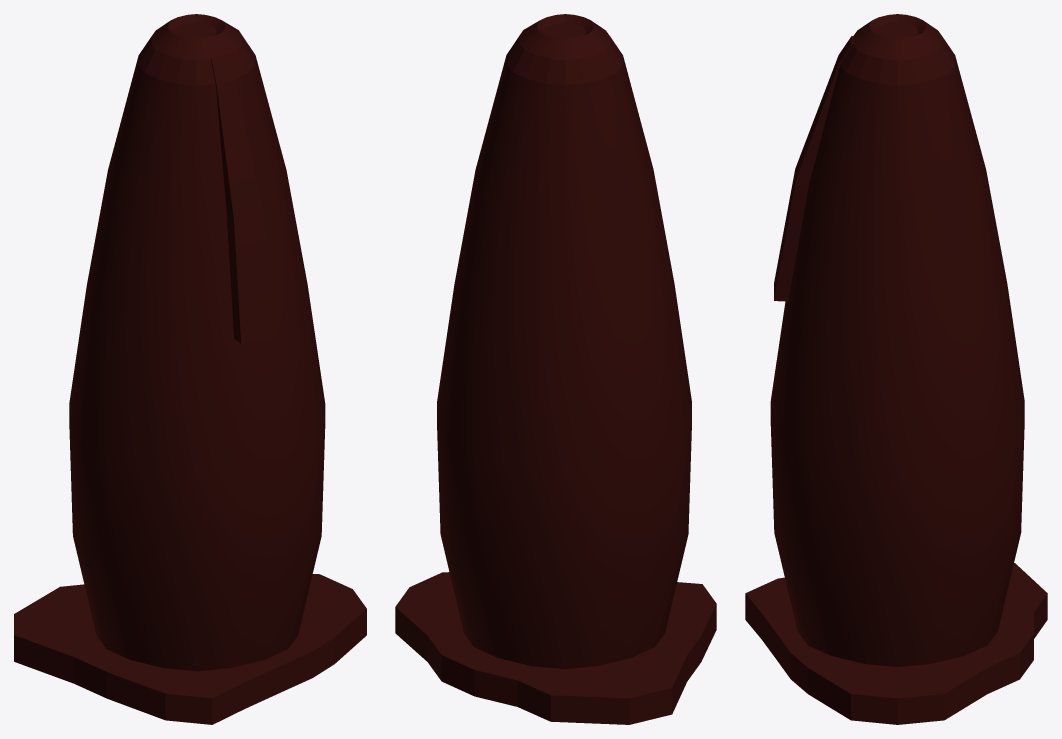
The model's file is candle 2 colored.fbx.
The picture shows the model from 3 angles, left to right: view 1: azimuth 30°, elevation 25°; view 2: azimuth 150°, elevation 25°; view 3: azimuth 270°, elevation 25°; orthographic projection.
Parts seen in each view (by area): view 1: candle 4; view 2: candle 4; view 3: candle 4.
Part boxes in pixels (bbox=[...]): candle 4: bbox=[14, 14, 366, 724]; candle 4: bbox=[395, 14, 716, 724]; candle 4: bbox=[745, 14, 1047, 724].
Bounding box in the file's own units: 10.65 × 21.2 × 9.33.
